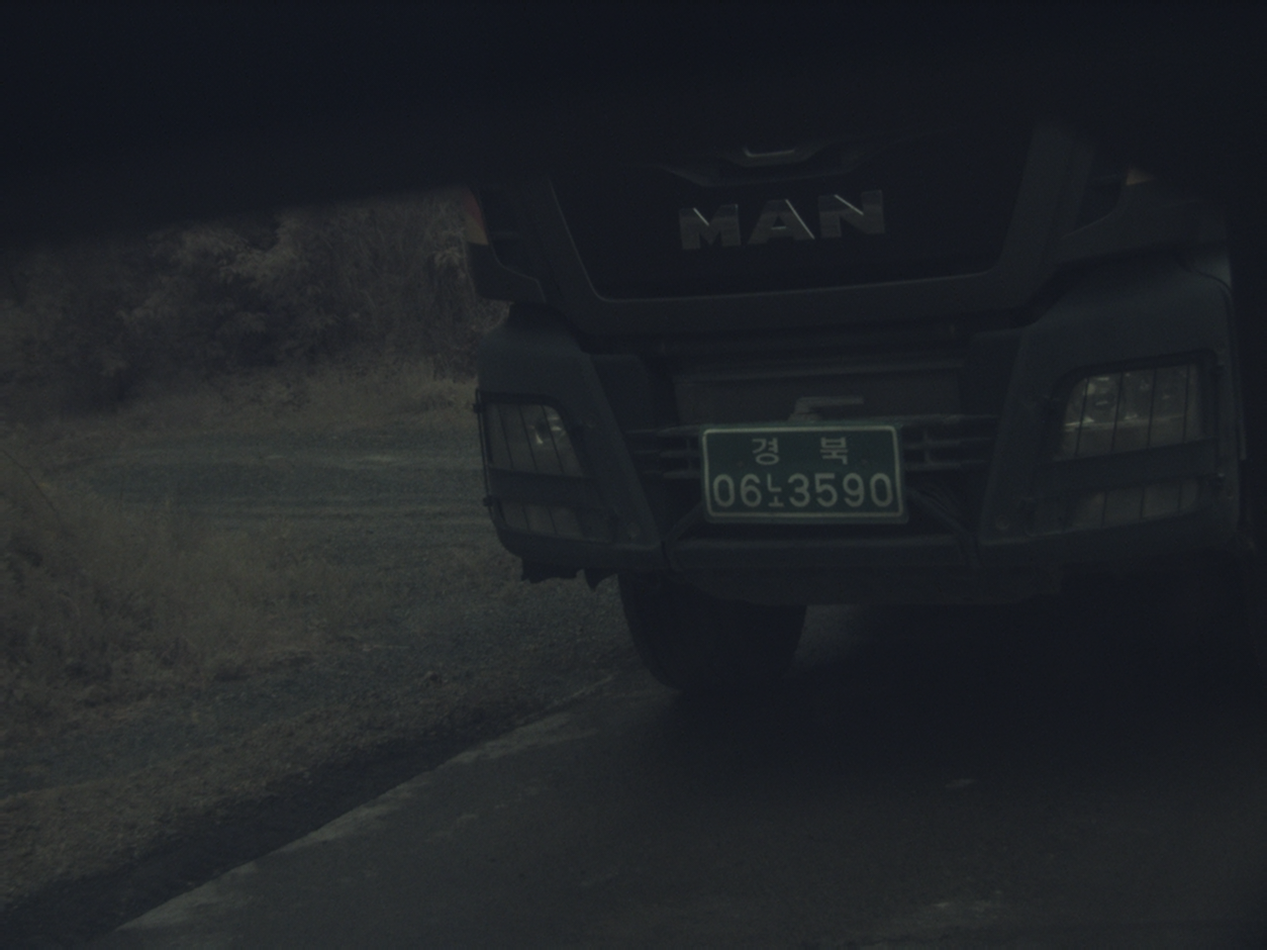license_plate: (703, 425, 906, 521)
truck: (468, 122, 1242, 690)
